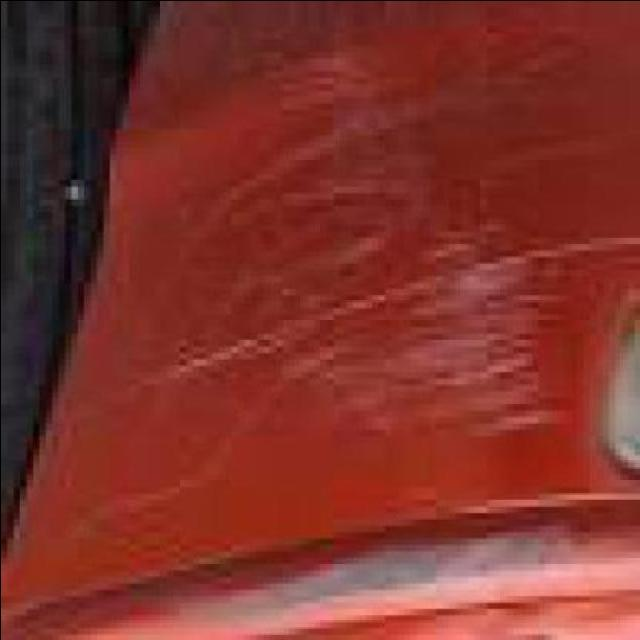front-bumper-dent: (2, 5, 640, 640)
